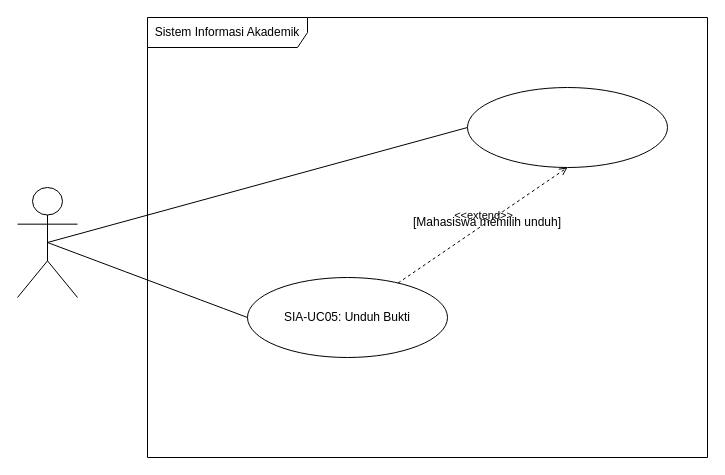
The diagram is 725 pixels wide and 475 high, and some of its shapes have lost their labels. Each missing label, with the centre of its shape:
Mahasiswa: pixel 47 242
SIA-UC03: Ajukan KRS: pixel 567 127
